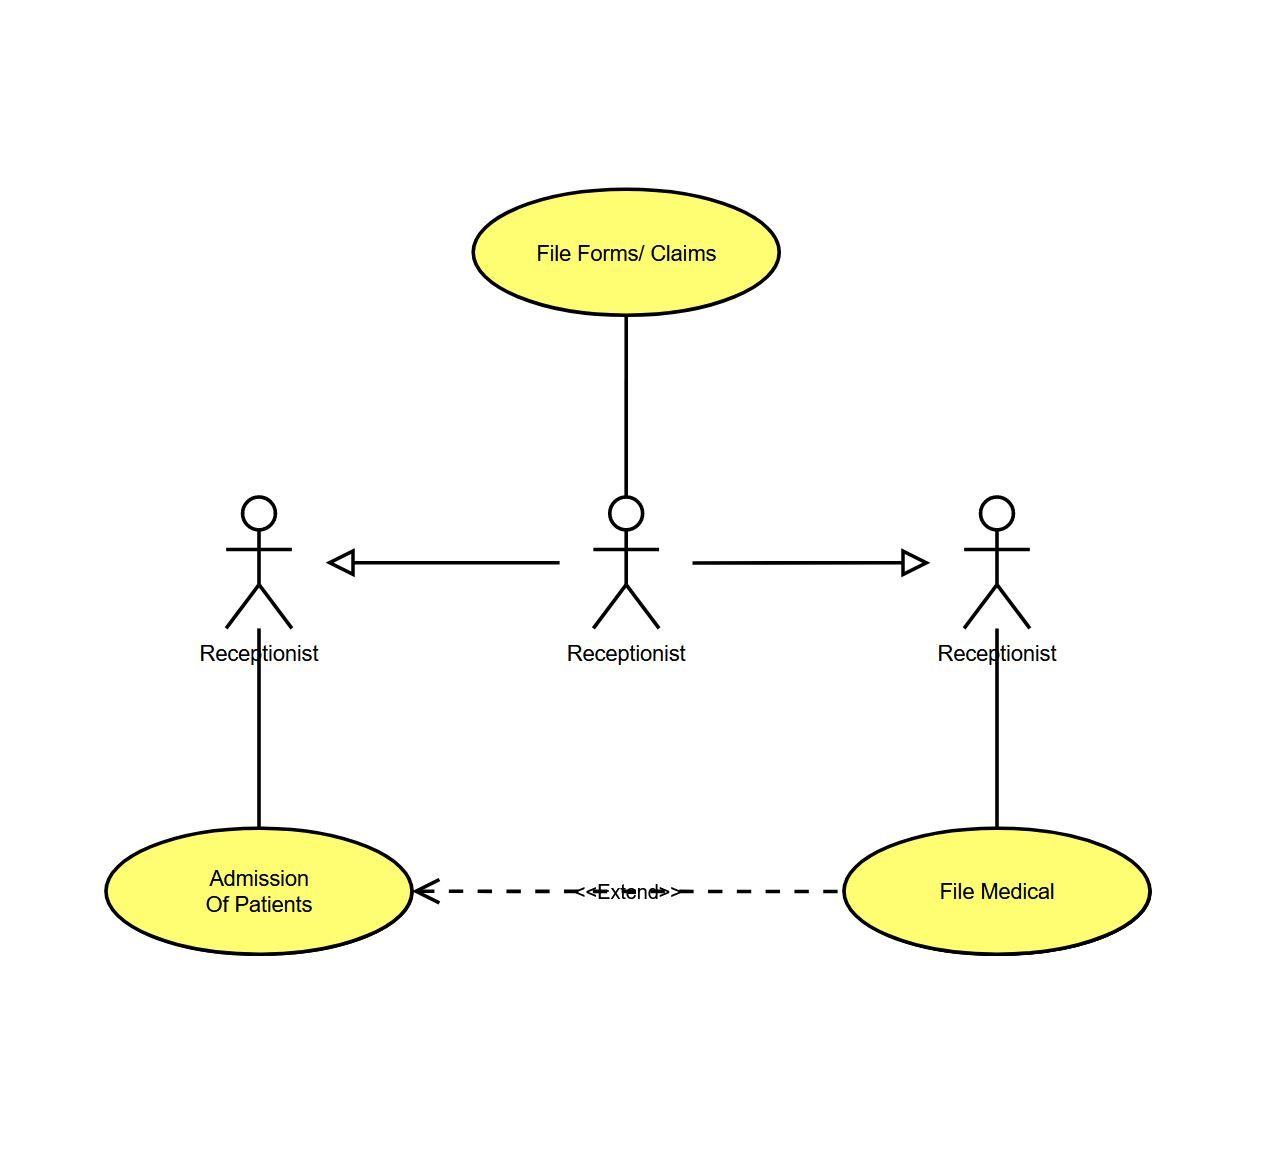actor: (589, 492, 674, 638), (956, 494, 1042, 632), (219, 491, 298, 635)
association: (416, 873, 837, 911), (604, 315, 648, 494), (979, 629, 1014, 827), (244, 625, 275, 825)
generalization: (321, 541, 576, 580), (684, 547, 935, 583)
text: (528, 230, 724, 273), (197, 862, 325, 922), (197, 633, 330, 672), (928, 879, 1076, 914), (560, 641, 695, 668), (571, 878, 683, 908), (933, 643, 1060, 666)
use_case: (836, 824, 1151, 960), (103, 825, 418, 956), (469, 185, 775, 319)
